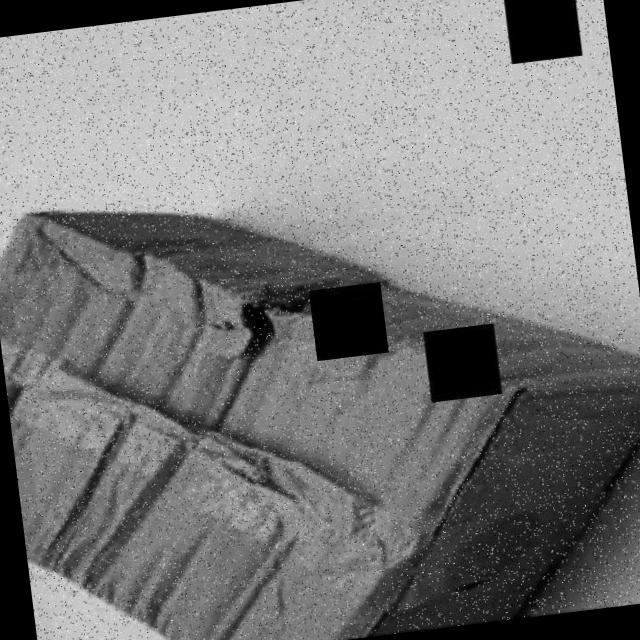box: (9, 197, 640, 640)
